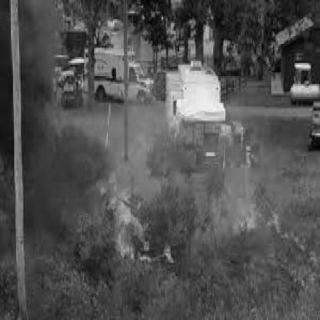Fire: (84, 161, 184, 265), (242, 191, 316, 281)
